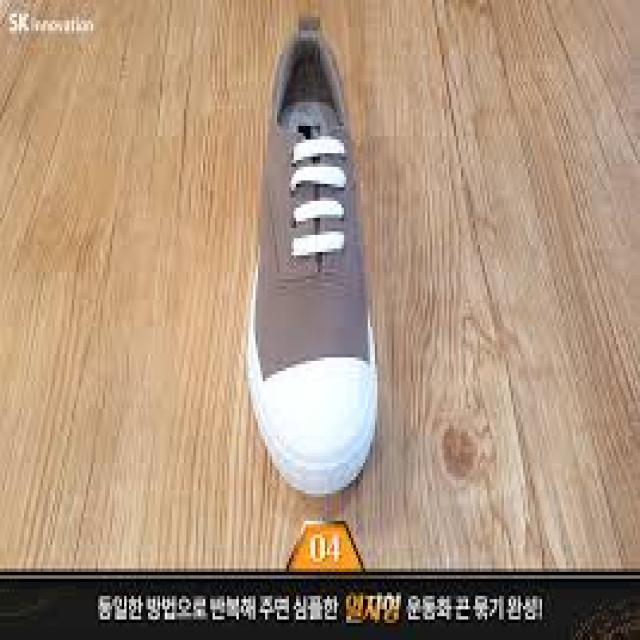shoes: (245, 34, 383, 500)
